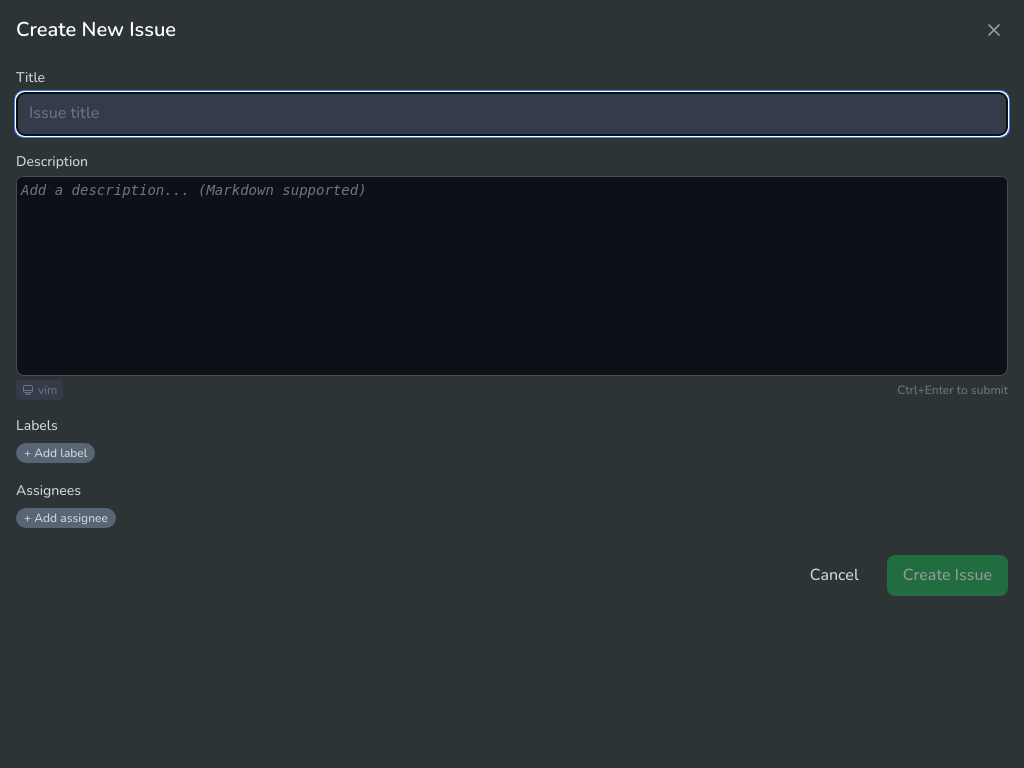
Test case: IssueCreateView › Form Submission › shows generic error for non-Error throws
Type "Test Issue" into the field with placeholder "Issue title" at {"x": 512, "y": 114}, box [16,92,1008,136]
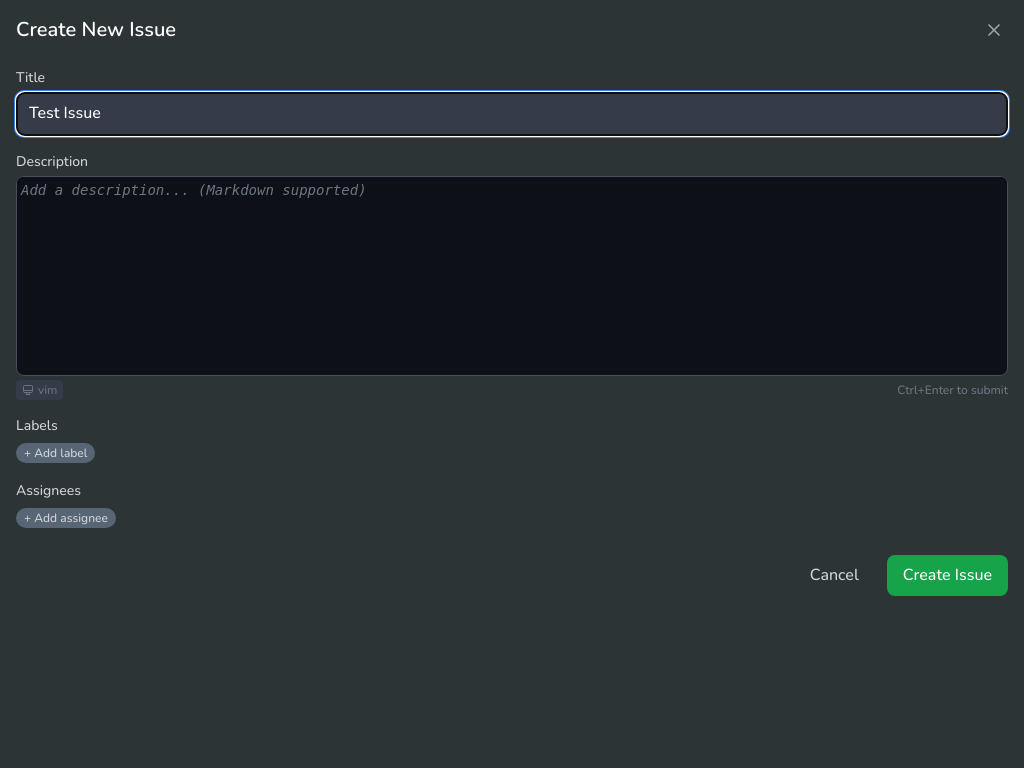
Click the button "Create Issue" at {"x": 947, "y": 576}, box [887,555,1008,596]
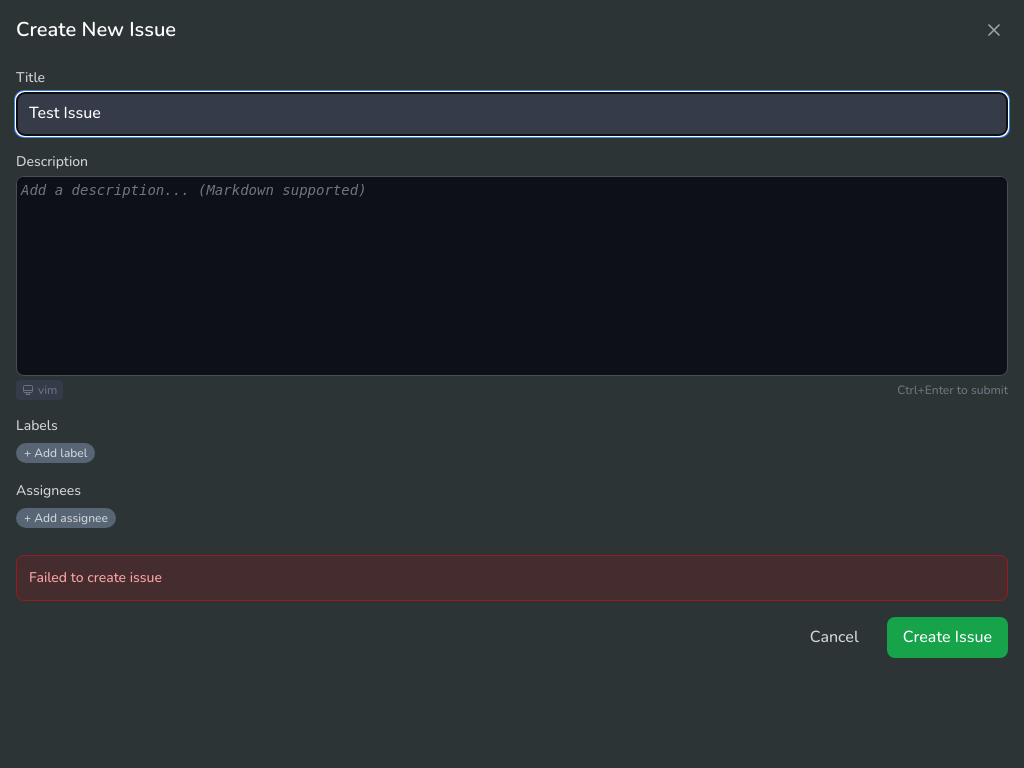
Now the text "Failed to create issue" is shown, box [16,555,1008,601]
